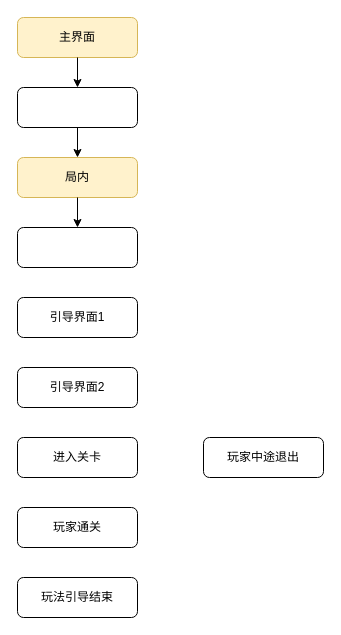
This 341x635 diagram has some shape labels left out. The shapes that lost their labels are listed below. From the top down, each one's box as (x1, y1, x2, y2) in pixels, then its label:
(16, 86, 138, 128): 点击第1关
(16, 226, 138, 268): 图块下落动画
